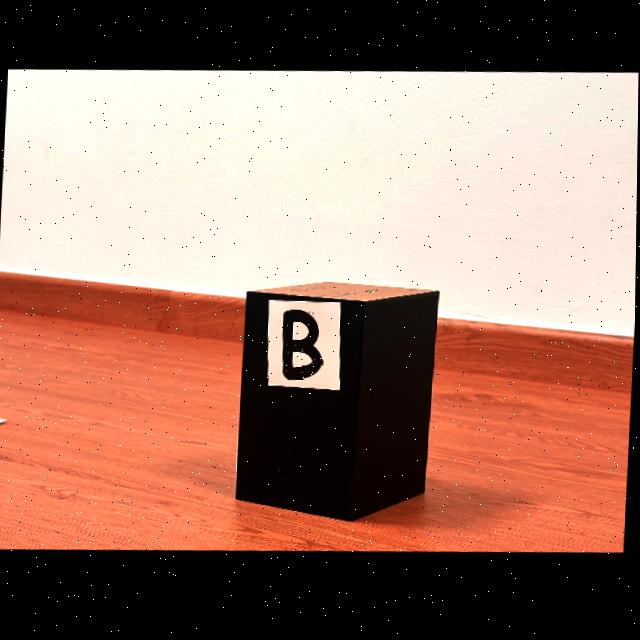B: (284, 312, 323, 380)
